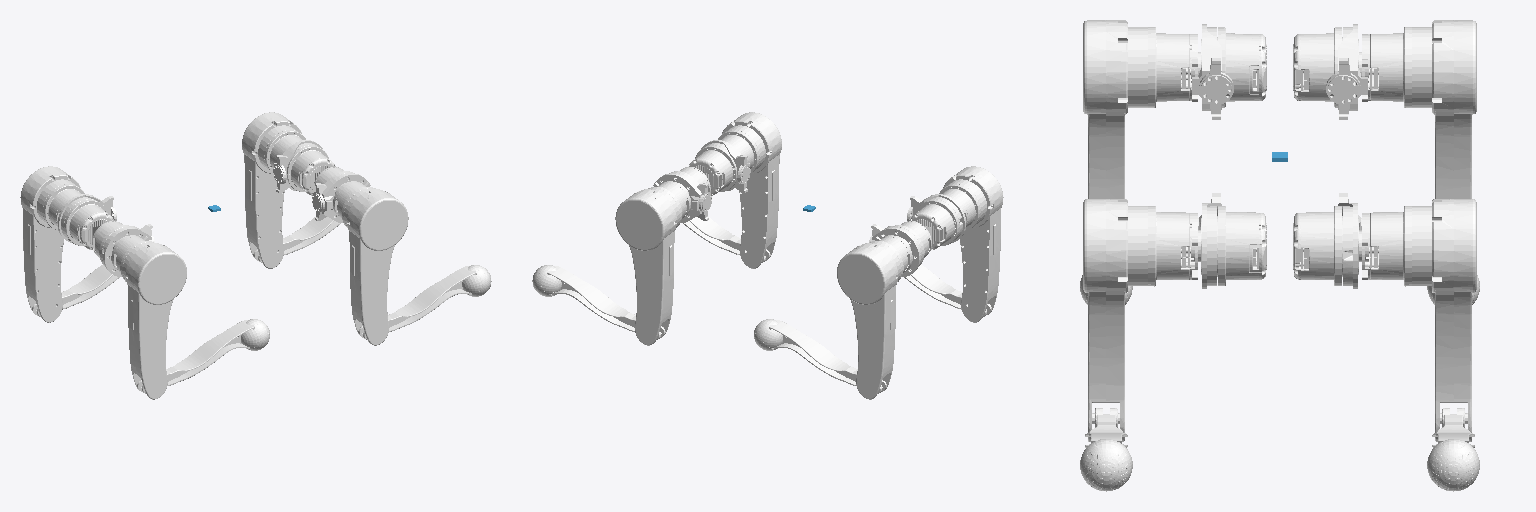
URDF robot description (robot):
<?xml version="1.0" ?>
<!-- =================================================================================== -->
<!-- |    This document was autogenerated by xacro from robot.xacro                    | -->
<!-- |    EDITING THIS FILE BY HAND IS NOT RECOMMENDED                                 | -->
<!-- =================================================================================== -->
<robot name="robot">
  <material name="black">
    <color rgba="0.0 0.0 0.0 1.0"/>
  </material>
  <material name="blue">
    <color rgba="0.0 0.0 0.8 1.0"/>
  </material>
  <material name="green">
    <color rgba="0.0 0.8 0.0 1.0"/>
  </material>
  <material name="grey">
    <color rgba="0.2 0.2 0.2 1.0"/>
  </material>
  <material name="silver">
    <color rgba="0.9137254901960784 0.9137254901960784 0.8470588235294118 1.0"/>
  </material>
  <material name="orange">
    <color rgba="1.0 0.4235294117647059 0.0392156862745098 1.0"/>
  </material>
  <material name="brown">
    <color rgba="0.8705882352941177 0.8117647058823529 0.7647058823529411 1.0"/>
  </material>
  <material name="red">
    <color rgba="0.8 0.0 0.0 1.0"/>
  </material>
  <material name="white">
    <color rgba="1.0 1.0 1.0 1.0"/>
  </material>
  <link name="base">
    <visual>
      <origin rpy="0 0 0" xyz="0 0 0"/>
      <geometry>
        <mesh filename="../meshes_ysc/base_link.STL" scale="1 1 1"/>
      </geometry>
      <material name="white"/>
    </visual>
    <collision>
      <origin rpy="0 0 0" xyz="0 0 0"/>
      <geometry>
        <box size="0.296 0.22 0.14"/>
      </geometry>
    </collision>
    <inertial>
      <origin rpy="0 0 0" xyz="0.00051375 -0.00026111 -0.00543225"/>
      <mass value="5.19760345"/>
      <inertia ixx="0.02304926" ixy="0.0002468" ixz="-0.00026556" iyy="0.05493657" iyz="5.697e-05" izz="0.06847865"/>
    </inertial>
  </link>
  <!-- Imu is fixed to the base link -->
  <joint name="unitree_imu_joint" type="fixed">
    <origin rpy="0. 0. 0." xyz="0. 0. 0."/>
    <parent link="base"/>
    <child link="unitree_imu"/>
  </joint>
  <!-- Imu link -->
  <link name="unitree_imu">
    <inertial>
      <mass value="0.01"/>
      <origin rpy="0 0 0" xyz="0 0 0"/>
      <inertia ixx="0.000001" ixy="0" ixz="0" iyy="0.000001" iyz="0" izz="0.000001"/>
    </inertial>
    <visual>
      <origin rpy="0 0 0" xyz="0 0 0"/>
      <geometry>
        <box size="0.015 0.015 0.004"/>
      </geometry>
    </visual>
    <material name="orange">
      <color rgba="255 108 10 255"/>
    </material>
  </link>

  <joint name="FR_hip_joint" type="revolute">
    <origin rpy="0 0 0" xyz="0.2 -0.06 -0.0"/>
    <parent link="base"/>
    <child link="FR_hip"/>
    <axis xyz="1 0 0"/>
    <dynamics damping="0.01" friction="0.1"/>
    <limit effort="19.94" lower="-0.45" upper="0.45" velocity="30.9971"/>
  </joint>
  <link name="FR_hip">
    <visual>
      <origin rpy="0 0 0" xyz="0 0 0"/>
      <!-- <origin rpy="${pi} 0 0" xyz="0 0 0"/> -->
      <geometry>
        <mesh filename="../meshes_ysc/R_hip_link.STL" scale="1 1 1"/>
      </geometry>
      <material name="white"/>
    </visual>
    <!-- <collision>
      <origin rpy="1.5707963267948966 0 0" xyz="0 0 0"/>
      <geometry>
        <cylinder length="0.032" radius="0.035"/>
      </geometry>
    </collision> -->
    <inertial>
      <origin rpy="0 0 0" xyz="-0.00339594 0.01067293 -8.467e-05"/>
      <mass value="0.56914725"/>
      <inertia ixx="0.00031423" ixy="-2.734e-05" ixz="4e-07" iyy="0.00040314" iyz="1.33e-06" izz="0.00037574"/>
    </inertial>
  </link>
  <joint name="FR_thigh_joint" type="revolute">
    <!-- c -->
    <!-- <origin rpy="0 0 0" xyz="0 ${thigh_offset*mirror} 0"/> -->
    <origin rpy="0 0.0 0" xyz="0 -0.1043 0"/>
    <parent link="FR_hip"/>
    <child link="FR_thigh"/>
    <!-- <axis xyz="0 -1 0"/> -->
    <axis xyz="0 1 0"/>
    <dynamics damping="0.01" friction="0.1"/>
    <limit effort="19.94" lower="-1" upper="1.79" velocity="30.9971"/>
  </joint>
  <link name="FR_thigh">
    <visual>
      <origin rpy="0 0 0" xyz="0 0 0"/>
      <geometry>
        <mesh filename="../meshes_ysc/R_thigh_link.STL" scale="1 1 1"/>
      </geometry>
      <material name="white"/>
    </visual>
    <collision>
      <origin rpy="0 1.5707963267948966 0" xyz="0 0 -0.09"/>
      <!-- <origin rpy="0 ${pi/2.0+0.1} 0" xyz="0 0 ${-thigh_length/2.0}"/> -->
      <geometry>
        <box size="0.18 0.03 0.03"/>
      </geometry>
    </collision>
    <!-- <collision>
      <origin rpy="1.5707963267948966 0 0" xyz="0 0 0"/>
      <geometry>
        <cylinder length="0.035" radius="0.035"/>
      </geometry>
    </collision> -->
    <inertial>
      <origin rpy="0 0 0" xyz="-0.00358325 0.02618429 -0.02247218"/>
      <mass value="1.07672843"/>
      <inertia ixx="0.00391929" ixy="-0.00010329" ixz="-0.0002956" iyy="0.00350585" iyz="-0.00060395" izz="0.0013464"/>
    </inertial>
  </link>
  <joint name="FR_calf_joint" type="revolute">
    <!-- cc -->
    <origin rpy="0 0 0" xyz="0 0 -0.18"/>
    <parent link="FR_thigh"/>
    <child link="FR_calf"/>
    <axis xyz="0 1 0"/>
    <dynamics damping="0.01" friction="0.1"/>
    <limit effort="30.5" lower="-2.6195" upper="-0.9" velocity="30.9971"/>
  </joint>
  <link name="FR_calf">
    <visual>
      <origin rpy="0 0 0" xyz="0 0 0"/>
      <geometry>
        <mesh filename="../meshes_ysc/L_calf_link.STL" scale="1 1 1"/>
      </geometry>
      <material name="white"/>
    </visual>
    <collision>
      <origin rpy="0 1.5707963267948966 0" xyz="0 0 -0.09"/>
      <geometry>
        <box size="0.18 0.018 0.015"/>
      </geometry>
    </collision>
    <inertial>
      <origin rpy="0 0 0" xyz="-0.00039122 1.444e-05 -0.10612109"/>
      <mass value="0.2000138"/>
      <inertia ixx="0.0011472" ixy="2e-08" ixz="4.418e-05" iyy="0.00115864" iyz="-3.1e-07" izz="4.163e-05"/>
    </inertial>
  </link>
  <joint name="FR_foot_fixed" type="fixed" dont_collapse="true">
    <origin rpy="0 0 0" xyz="0 0 -0.18"/>
    <parent link="FR_calf"/>
    <child link="FR_foot"/>
  </joint>
  <link name="FR_foot">
    <visual>
      <origin rpy="0 0 0" xyz="0 0 0"/>
      <geometry>
        <sphere radius="0.025"/>
        <!-- <mesh filename="package://legged_redgo_description/meshes/$(arg robot_type)/FL_toe_link.STL" scale="1 1 1"/> -->
      </geometry>
      <material name="white"/>
    </visual>
    <collision>
      <origin rpy="0 0 0" xyz="0 0 0"/>
      <geometry>
        <sphere radius="0.025"/>
      </geometry>
    </collision>
    <inertial>
      <mass value="0.0450952"/>
      <origin rpy="0 0 0" xyz="3.045e-05 0 -0.00104172"/>
      <inertia ixx="1.09e-05" ixy="0" ixz="0" iyy="1.316e-05" iyz="0" izz="1.277e-05"/>
    </inertial>
  </link>
  <joint name="FL_hip_joint" type="revolute">
    <origin rpy="0 0 0" xyz="0.2 0.06 -0.0"/>
    <parent link="base"/>
    <child link="FL_hip"/>
    <axis xyz="1 0 0"/>
    <dynamics damping="0.01" friction="0.1"/>
    <limit effort="19.94" lower="-0.45" upper="0.45" velocity="30.9971"/>
  </joint>
  <link name="FL_hip">
    <visual>
      <origin rpy="0 0 0" xyz="0 0 0"/>
      <geometry>
        <mesh filename="../meshes_ysc/L_hip_link.STL" scale="1 1 1"/>
      </geometry>
      <material name="white"/>
    </visual>
    <!-- <collision>
      <origin rpy="1.5707963267948966 0 0" xyz="0 0 0"/>
      <geometry>
        <cylinder length="0.032" radius="0.035"/>
      </geometry>
    </collision> -->
    <inertial>
      <origin rpy="0 0 0" xyz="-0.00339594 -0.01067293 -8.467e-05"/>
      <mass value="0.56914725"/>
      <inertia ixx="0.00031423" ixy="2.734e-05" ixz="4e-07" iyy="0.00040314" iyz="-1.33e-06" izz="0.00037574"/>
    </inertial>
  </link>
  <joint name="FL_thigh_joint" type="revolute">
    <!-- c -->
    <!-- <origin rpy="0 0 0" xyz="0 ${thigh_offset*mirror} 0"/> -->
    <origin rpy="0 0.0 0" xyz="0 0.1043 0"/>
    <parent link="FL_hip"/>
    <child link="FL_thigh"/>
    <!-- <axis xyz="0 -1 0"/> -->
    <axis xyz="0 1 0"/>
    <dynamics damping="0.01" friction="0.1"/>
    <limit effort="19.94" lower="-1" upper="1.79" velocity="30.9971"/>
  </joint>
  <link name="FL_thigh">
    <visual>
      <origin rpy="0 0 0" xyz="0 0 0"/>
      <geometry>
        <mesh filename="../meshes_ysc/L_thigh_link.STL" scale="1 1 1"/>
      </geometry>
      <material name="white"/>
    </visual>
    <collision>
      <origin rpy="0 1.5707963267948966 0" xyz="0 0 -0.09"/>
      <!-- <origin rpy="0 ${pi/2.0+0.1} 0" xyz="0 0 ${-thigh_length/2.0}"/> -->
      <geometry>
        <box size="0.18 0.03 0.03"/>
      </geometry>
    </collision>
    <!-- <collision>
      <origin rpy="1.5707963267948966 0 0" xyz="0 0 0"/>
      <geometry>
        <cylinder length="0.035" radius="0.035"/>
      </geometry>
    </collision> -->
    <inertial>
      <origin rpy="0 0 0" xyz="-0.00358325 -0.02618429 -0.02247218"/>
      <mass value="1.07672843"/>
      <inertia ixx="0.00391929" ixy="0.00010329" ixz="-0.0002956" iyy="0.00350585" iyz="0.00060395" izz="0.0013464"/>
    </inertial>
  </link>
  <joint name="FL_calf_joint" type="revolute">
    <!-- cc -->
    <origin rpy="0 0 0" xyz="0 0 -0.18"/>
    <parent link="FL_thigh"/>
    <child link="FL_calf"/>
    <axis xyz="0 1 0"/>
    <dynamics damping="0.01" friction="0.1"/>
    <limit effort="30.5" lower="-2.6195" upper="-0.9" velocity="30.9971"/>
  </joint>
  <link name="FL_calf">
    <visual>
      <origin rpy="0 0 0" xyz="0 0 0"/>
      <geometry>
        <mesh filename="../meshes_ysc/L_calf_link.STL" scale="1 1 1"/>
      </geometry>
      <material name="white"/>
    </visual>
    <collision>
      <origin rpy="0 1.5707963267948966 0" xyz="0 0 -0.09"/>
      <geometry>
        <box size="0.18 0.018 0.015"/>
      </geometry>
    </collision>
    <inertial>
      <origin rpy="0 0 0" xyz="-0.00039122 1.444e-05 -0.10612109"/>
      <mass value="0.2000138"/>
      <inertia ixx="0.0011472" ixy="2e-08" ixz="4.418e-05" iyy="0.00115864" iyz="-3.1e-07" izz="4.163e-05"/>
    </inertial>
  </link>
  <joint name="FL_foot_fixed" type="fixed" dont_collapse="true">
    <origin rpy="0 0 0" xyz="0 0 -0.18"/>
    <parent link="FL_calf"/>
    <child link="FL_foot"/>
  </joint>
  <link name="FL_foot">
    <visual>
      <origin rpy="0 0 0" xyz="0 0 0"/>
      <geometry>
        <sphere radius="0.025"/>
        <!-- <mesh filename="package://legged_redgo_description/meshes/$(arg robot_type)/FL_toe_link.STL" scale="1 1 1"/> -->
      </geometry>
      <material name="white"/>
    </visual>
    <collision>
      <origin rpy="0 0 0" xyz="0 0 0"/>
      <geometry>
        <sphere radius="0.025"/>
      </geometry>
    </collision>
    <inertial>
      <mass value="0.0450952"/>
      <origin rpy="0 0 0" xyz="3.045e-05 0 -0.00104172"/>
      <inertia ixx="1.09e-05" ixy="0" ixz="0" iyy="1.316e-05" iyz="0" izz="1.277e-05"/>
    </inertial>
  </link>

  <joint name="RR_hip_joint" type="revolute">
    <origin rpy="0 0 0" xyz="-0.2 -0.06 -0.0"/>
    <parent link="base"/>
    <child link="RR_hip"/>
    <axis xyz="1 0 0"/>
    <dynamics damping="0.01" friction="0.1"/>
    <limit effort="19.94" lower="-0.45" upper="0.45" velocity="30.9971"/>
  </joint>
  <link name="RR_hip">
    <visual>
      <origin rpy="0 0 3.141592653589793" xyz="0 0 0"/>
      <!-- <origin rpy="${pi} ${pi} 0" xyz="0 0 0"/> -->
      <geometry>
        <mesh filename="../meshes_ysc/L_hip_link.STL" scale="1 1 1"/>
      </geometry>
      <material name="white"/>
    </visual>
    <!-- <collision>
      <origin rpy="1.5707963267948966 0 0" xyz="0 0 0"/>
      <geometry>
        <cylinder length="0.032" radius="0.035"/>
      </geometry>
    </collision> -->
    <inertial>
      <origin rpy="0 0 0" xyz="0.00339594 0.01067293 -8.467e-05"/>
      <mass value="0.56914725"/>
      <inertia ixx="0.00031423" ixy="2.734e-05" ixz="-4e-07" iyy="0.00040314" iyz="1.33e-06" izz="0.00037574"/>
    </inertial>
  </link>
  <joint name="RR_thigh_joint" type="revolute">
    <!-- c -->
    <!-- <origin rpy="0 0 0" xyz="0 ${thigh_offset*mirror} 0"/> -->
    <origin rpy="0 0.0 0" xyz="0 -0.1043 0"/>
    <parent link="RR_hip"/>
    <child link="RR_thigh"/>
    <!-- <axis xyz="0 -1 0"/> -->
    <axis xyz="0 1 0"/>
    <dynamics damping="0.01" friction="0.1"/>
    <limit effort="19.94" lower="-1" upper="1.79" velocity="30.9971"/>
  </joint>
  <link name="RR_thigh">
    <visual>
      <origin rpy="0 0 0" xyz="0 0 0"/>
      <geometry>
        <mesh filename="../meshes_ysc/R_thigh_link.STL" scale="1 1 1"/>
      </geometry>
      <material name="white"/>
    </visual>
    <collision>
      <origin rpy="0 1.5707963267948966 0" xyz="0 0 -0.09"/>
      <!-- <origin rpy="0 ${pi/2.0+0.1} 0" xyz="0 0 ${-thigh_length/2.0}"/> -->
      <geometry>
        <box size="0.18 0.03 0.03"/>
      </geometry>
    </collision>
    <!-- <collision>
      <origin rpy="1.5707963267948966 0 0" xyz="0 0 0"/>
      <geometry>
        <cylinder length="0.035" radius="0.035"/>
      </geometry>
    </collision> -->
    <inertial>
      <origin rpy="0 0 0" xyz="-0.00358325 0.02618429 -0.02247218"/>
      <mass value="1.07672843"/>
      <inertia ixx="0.00391929" ixy="-0.00010329" ixz="-0.0002956" iyy="0.00350585" iyz="-0.00060395" izz="0.0013464"/>
    </inertial>
  </link>
  <joint name="RR_calf_joint" type="revolute">
    <!-- cc -->
    <origin rpy="0 0 0" xyz="0 0 -0.18"/>
    <parent link="RR_thigh"/>
    <child link="RR_calf"/>
    <axis xyz="0 1 0"/>
    <dynamics damping="0.01" friction="0.1"/>
    <limit effort="30.5" lower="-2.6195" upper="-0.9" velocity="30.9971"/>
  </joint>
  <link name="RR_calf">
    <visual>
      <origin rpy="0 0 0" xyz="0 0 0"/>
      <geometry>
        <mesh filename="../meshes_ysc/L_calf_link.STL" scale="1 1 1"/>
      </geometry>
      <material name="white"/>
    </visual>
    <collision>
      <origin rpy="0 1.5707963267948966 0" xyz="0 0 -0.09"/>
      <geometry>
        <box size="0.18 0.018 0.015"/>
      </geometry>
    </collision>
    <inertial>
      <origin rpy="0 0 0" xyz="-0.00039122 1.444e-05 -0.10612109"/>
      <mass value="0.2000138"/>
      <inertia ixx="0.0011472" ixy="2e-08" ixz="4.418e-05" iyy="0.00115864" iyz="-3.1e-07" izz="4.163e-05"/>
    </inertial>
  </link>
  <joint name="RR_foot_fixed" type="fixed" dont_collapse="true">
    <origin rpy="0 0 0" xyz="0 0 -0.18"/>
    <parent link="RR_calf"/>
    <child link="RR_foot"/>
  </joint>
  <link name="RR_foot">
    <visual>
      <origin rpy="0 0 0" xyz="0 0 0"/>
      <geometry>
        <sphere radius="0.025"/>
        <!-- <mesh filename="package://legged_redgo_description/meshes/$(arg robot_type)/FL_toe_link.STL" scale="1 1 1"/> -->
      </geometry>
      <material name="white"/>
    </visual>
    <collision>
      <origin rpy="0 0 0" xyz="0 0 0"/>
      <geometry>
        <sphere radius="0.025"/>
      </geometry>
    </collision>
    <!-- <inertial>
                <mass value="${foot_mass}"/>
                <inertia
                        ixx="${(2*foot_mass)/5.0*(foot_radius*foot_radius)}" ixy="0.0" ixz="0.0"
                        iyy="${(2*foot_mass)/5.0*(foot_radius*foot_radius)}" iyz="0.0"
                        izz="${(2*foot_mass)/5.0*(foot_radius*foot_radius)}"/>
            </inertial> -->
    <!-- <inertial>
                <mass value="${0.0}"/>
                <inertia
                        ixx="0.0" ixy="0.0" ixz="0.0"
                        iyy="0.0" iyz="0.0"
                        izz="0.0"/>
            </inertial> -->
    <inertial>
      <mass value="0.0450952"/>
      <origin rpy="0 0 0" xyz="3.045e-05 0 -0.00104172"/>
      <inertia ixx="1.09e-05" ixy="0" ixz="0" iyy="1.316e-05" iyz="0" izz="1.277e-05"/>
    </inertial>
  </link>

  <joint name="RL_hip_joint" type="revolute">
    <origin rpy="0 0 0" xyz="-0.2 0.06 -0.0"/>
    <parent link="base"/>
    <child link="RL_hip"/>
    <axis xyz="1 0 0"/>
    <dynamics damping="0.01" friction="0.1"/>
    <limit effort="19.94" lower="-0.45" upper="0.45" velocity="30.9971"/>
  </joint>
  <link name="RL_hip">
    <visual>
      <origin rpy="0 0 3.141592653589793" xyz="0 0 0"/>
      <!-- <origin rpy="0 ${pi} 0" xyz="0 0 0"/> -->
      <geometry>
        <mesh filename="../meshes_ysc/R_hip_link.STL" scale="1 1 1"/>
      </geometry>
      <material name="white"/>
    </visual>
    <!-- <collision>
      <origin rpy="1.5707963267948966 0 0" xyz="0 0 0"/>
      <geometry>
        <cylinder length="0.032" radius="0.035"/>
      </geometry>
    </collision> -->
    <inertial>
      <origin rpy="0 0 0" xyz="0.00339594 -0.01067293 -8.467e-05"/>
      <mass value="0.56914725"/>
      <inertia ixx="0.00031423" ixy="-2.734e-05" ixz="-4e-07" iyy="0.00040314" iyz="-1.33e-06" izz="0.00037574"/>
    </inertial>
  </link>
  <joint name="RL_thigh_joint" type="revolute">
    <!-- c -->
    <!-- <origin rpy="0 0 0" xyz="0 ${thigh_offset*mirror} 0"/> -->
    <origin rpy="0 0.0 0" xyz="0 0.1043 0"/>
    <parent link="RL_hip"/>
    <child link="RL_thigh"/>
    <!-- <axis xyz="0 -1 0"/> -->
    <axis xyz="0 1 0"/>
    <dynamics damping="0.01" friction="0.1"/>
    <limit effort="19.94" lower="-1" upper="1.79" velocity="30.9971"/>
  </joint>
  <link name="RL_thigh">
    <visual>
      <origin rpy="0 0 0" xyz="0 0 0"/>
      <geometry>
        <mesh filename="../meshes_ysc/L_thigh_link.STL" scale="1 1 1"/>
      </geometry>
      <material name="white"/>
    </visual>
    <collision>
      <origin rpy="0 1.5707963267948966 0" xyz="0 0 -0.09"/>
      <!-- <origin rpy="0 ${pi/2.0+0.1} 0" xyz="0 0 ${-thigh_length/2.0}"/> -->
      <geometry>
        <box size="0.18 0.03 0.03"/>
      </geometry>
    </collision>
    <!-- <collision>
      <origin rpy="1.5707963267948966 0 0" xyz="0 0 0"/>
      <geometry>
        <cylinder length="0.035" radius="0.035"/>
      </geometry>
    </collision> -->
    <inertial>
      <origin rpy="0 0 0" xyz="-0.00358325 -0.02618429 -0.02247218"/>
      <mass value="1.07672843"/>
      <inertia ixx="0.00391929" ixy="0.00010329" ixz="-0.0002956" iyy="0.00350585" iyz="0.00060395" izz="0.0013464"/>
    </inertial>
  </link>
  <joint name="RL_calf_joint" type="revolute">
    <!-- cc -->
    <origin rpy="0 0 0" xyz="0 0 -0.18"/>
    <parent link="RL_thigh"/>
    <child link="RL_calf"/>
    <axis xyz="0 1 0"/>
    <dynamics damping="0.01" friction="0.1"/>
    <limit effort="30.5" lower="-2.6195" upper="-0.9" velocity="30.9971"/>
  </joint>
  <link name="RL_calf">
    <visual>
      <origin rpy="0 0 0" xyz="0 0 0"/>
      <geometry>
        <mesh filename="../meshes_ysc/L_calf_link.STL" scale="1 1 1"/>
      </geometry>
      <material name="white"/>
    </visual>
    <collision>
      <origin rpy="0 1.5707963267948966 0" xyz="0 0 -0.09"/>
      <geometry>
        <box size="0.18 0.018 0.015"/>
      </geometry>
    </collision>
    <inertial>
      <origin rpy="0 0 0" xyz="-0.00039122 1.444e-05 -0.10612109"/>
      <mass value="0.2000138"/>
      <inertia ixx="0.0011472" ixy="2e-08" ixz="4.418e-05" iyy="0.00115864" iyz="-3.1e-07" izz="4.163e-05"/>
    </inertial>
  </link>
  <joint name="RL_foot_fixed" type="fixed" dont_collapse="true">
    <origin rpy="0 0 0" xyz="0 0 -0.18"/>
    <parent link="RL_calf"/>
    <child link="RL_foot"/>
  </joint>
  <link name="RL_foot">
    <visual>
      <origin rpy="0 0 0" xyz="0 0 0"/>
      <geometry>
        <sphere radius="0.025"/>
        <!-- <mesh filename="package://legged_redgo_description/meshes/$(arg robot_type)/FL_toe_link.STL" scale="1 1 1"/> -->
      </geometry>
      <material name="white"/>
    </visual>
    <collision>
      <origin rpy="0 0 0" xyz="0 0 0"/>
      <geometry>
        <sphere radius="0.025"/>
      </geometry>
    </collision>
    <!-- <inertial>
                <mass value="${foot_mass}"/>
                <inertia
                        ixx="${(2*foot_mass)/5.0*(foot_radius*foot_radius)}" ixy="0.0" ixz="0.0"
                        iyy="${(2*foot_mass)/5.0*(foot_radius*foot_radius)}" iyz="0.0"
                        izz="${(2*foot_mass)/5.0*(foot_radius*foot_radius)}"/>
            </inertial> -->
    <!-- <inertial>
                <mass value="${0.0}"/>
                <inertia
                        ixx="0.0" ixy="0.0" ixz="0.0"
                        iyy="0.0" iyz="0.0"
                        izz="0.0"/>
            </inertial> -->
    <inertial>
      <mass value="0.0450952"/>
      <origin rpy="0 0 0" xyz="3.045e-05 0 -0.00104172"/>
      <inertia ixx="1.09e-05" ixy="0" ixz="0" iyy="1.316e-05" iyz="0" izz="1.277e-05"/>
    </inertial>
  </link>

  <!-- Robot Footprint
  <joint name="footprint_joint" type="fixed">
    <parent link="base"/>
    <child link="base_footprint"/>
    <origin rpy="0 0 0" xyz="0.0 0.0 -0.2"/>
  </joint>
  <link name="base_footprint">
    <inertial>
      <origin rpy="1.5707963267948966 0 1.5707963267948966" xyz="0 0 0"/>
      <mass value="0.001"/>
      <inertia ixx="0.0" ixy="0.0" ixz="0.0" iyy="0.0" iyz="0.0" izz="0.0"/>
    </inertial>
  </link> -->
  <!-- <xacro:lidar parent="base" xyz="-0.065 0. 0.1" rpy="0. 0. 0."/> -->
</robot>

--- Render facts (derived) ---
The picture shows the robot from 3 angles, left to right: view 1: azimuth 30°, elevation 25°; view 2: azimuth 150°, elevation 25°; view 3: azimuth 270°, elevation 25°; orthographic projection.
Model robot with 18 links and 17 joints (12 revolute, 5 fixed), rooted at base, posed all joints at 0 but 4 set to mid-range because 0 is outside their limits (FR_calf_joint = -1.76, FL_calf_joint = -1.76, RR_calf_joint = -1.76, RL_calf_joint = -1.76).
Links seen in each view (by area): view 1: RR_thigh, FR_thigh, RL_thigh, FL_thigh, FL_hip, FR_calf, RL_hip, RR_calf, FR_hip, RR_hip, RL_calf, FL_calf; view 2: RL_thigh, FL_thigh, RR_thigh, FR_thigh, FR_hip, FL_calf, RL_calf, RR_hip, FL_hip, RL_hip, RR_calf, FR_calf; view 3: FL_thigh, FR_thigh, RL_thigh, RR_thigh, RR_hip, RL_hip, FR_hip, FL_hip, FR_calf, FL_calf, FL_foot, FR_foot.
Boxes of the visible links, left/top/right/bottom form: RR_thigh: left=111, top=235, right=186, bottom=399; FR_thigh: left=333, top=181, right=408, bottom=345; RL_thigh: left=20, top=166, right=84, bottom=322; FL_thigh: left=242, top=112, right=305, bottom=268; FL_hip: left=273, top=140, right=335, bottom=195; FR_calf: left=358, top=265, right=490, bottom=339; RL_hip: left=58, top=194, right=116, bottom=249; RR_calf: left=137, top=320, right=269, bottom=393; FR_hip: left=312, top=167, right=368, bottom=222; RR_hip: left=93, top=221, right=154, bottom=276; RL_calf: left=32, top=265, right=119, bottom=316; FL_calf: left=253, top=217, right=340, bottom=262; RL_thigh: left=837, top=235, right=912, bottom=399; FL_thigh: left=615, top=181, right=690, bottom=345; RR_thigh: left=939, top=166, right=1003, bottom=322; FR_thigh: left=718, top=112, right=781, bottom=268; FR_hip: left=688, top=140, right=750, bottom=195; FL_calf: left=533, top=265, right=665, bottom=339; RL_calf: left=754, top=320, right=886, bottom=393; RR_hip: left=907, top=194, right=965, bottom=249; FL_hip: left=655, top=167, right=711, bottom=222; RL_hip: left=869, top=221, right=931, bottom=276; RR_calf: left=904, top=265, right=991, bottom=316; FR_calf: left=683, top=217, right=770, bottom=262; FL_thigh: left=1359, top=199, right=1476, bottom=441; FR_thigh: left=1083, top=199, right=1200, bottom=441; RL_thigh: left=1359, top=20, right=1476, bottom=198; RR_thigh: left=1083, top=20, right=1200, bottom=198; RR_hip: left=1192, top=24, right=1266, bottom=119; RL_hip: left=1293, top=24, right=1367, bottom=119; FR_hip: left=1198, top=193, right=1266, bottom=288; FL_hip: left=1293, top=193, right=1361, bottom=288; FR_calf: left=1080, top=408, right=1132, bottom=490; FL_calf: left=1427, top=408, right=1479, bottom=490; FL_foot: left=1429, top=439, right=1479, bottom=491; FR_foot: left=1080, top=439, right=1130, bottom=491.
Bounding box of the posed robot: 0.6463 × 0.3786 × 0.2521 m (x, y, z).
12 mesh visuals loaded from 6 distinct referenced files (5 binary STL); not drawn: 1 (reference not matched to a file when rendering).
